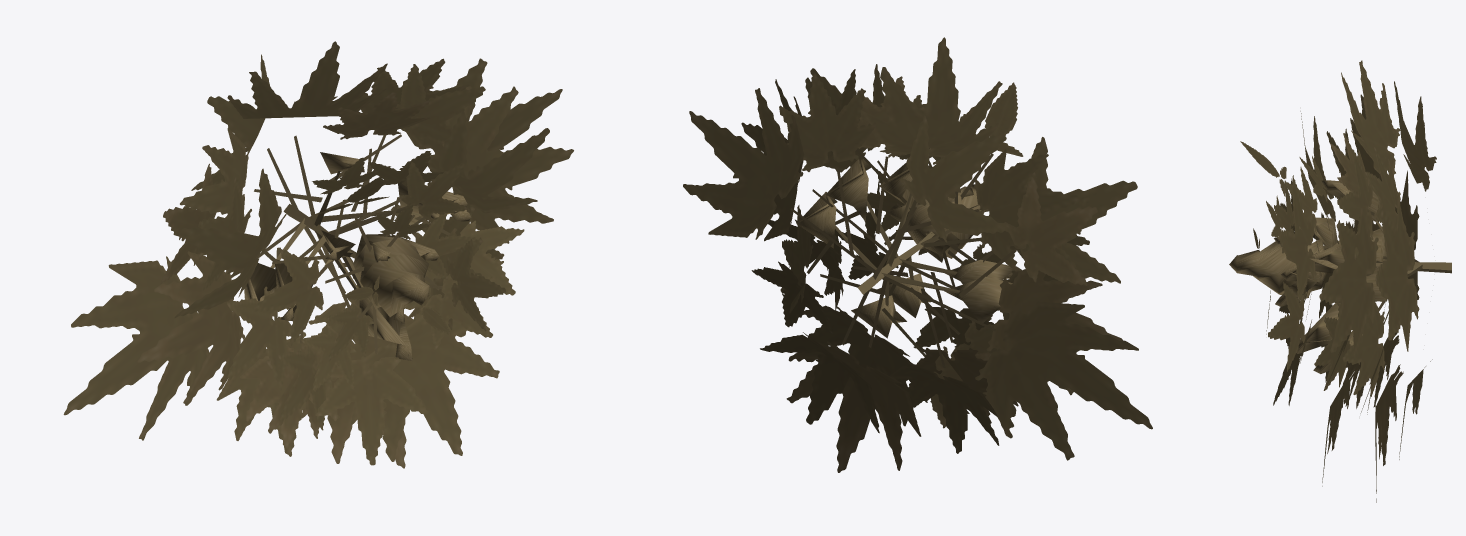
Rendered from p_tree_ripe_c4_cards.obj.
The picture shows the model from 3 angles, left to right: view 1: azimuth 30°, elevation 25°; view 2: azimuth 150°, elevation 25°; view 3: azimuth 270°, elevation 25°; orthographic projection. The views are drawn at different scales.
Size of the model in its own units: 1.57 by 1.33 by 0.604.
1 material, 1 textured.
